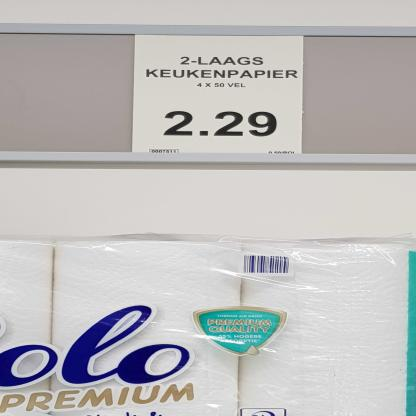prtg: (131, 35, 305, 156)
